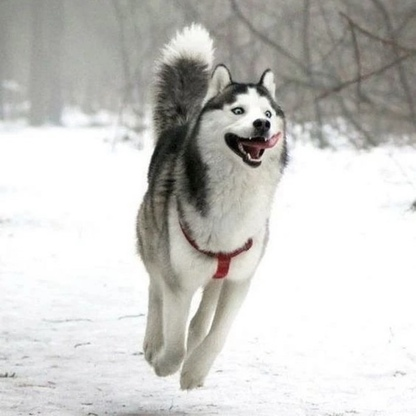husky: (127, 18, 294, 395)
